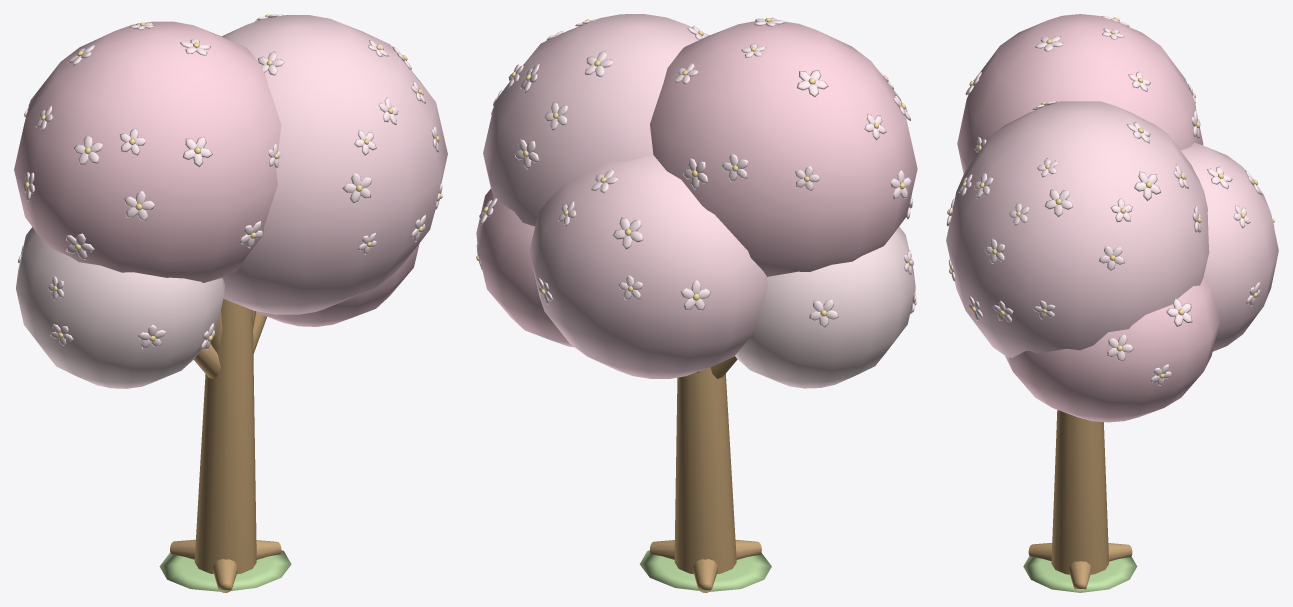
Rendered from tree_v2_spring.glb.
3 views of the same model, side by side, from view 1: azimuth 30°, elevation 25°; view 2: azimuth 150°, elevation 25°; view 3: azimuth 270°, elevation 25° (orthographic). The views are drawn at different scales.
Size of the model in its own units: 3.88 by 5.05 by 2.97.
